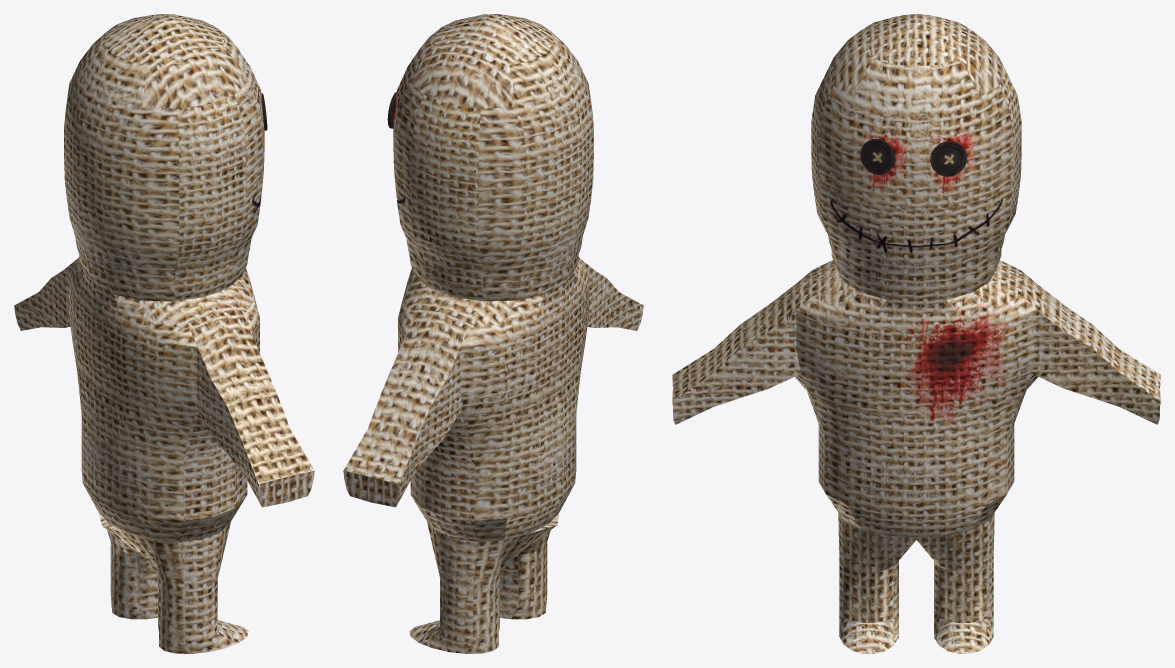
File: Voodoodoll.fbx
3 views of the same model, side by side, from view 1: azimuth 30°, elevation 25°; view 2: azimuth 150°, elevation 25°; view 3: azimuth 270°, elevation 25° (orthographic).
Visible parts, largest first — view 1: pCylinder10; view 2: pCylinder10; view 3: pCylinder10.
Boxes of the visible parts, box(x1,y1,x2,y2) form: pCylinder10: box(14, 14, 314, 653); pCylinder10: box(343, 14, 643, 653); pCylinder10: box(672, 14, 1160, 653).
Bounding box in the file's own units: 108 × 357 × 261.
